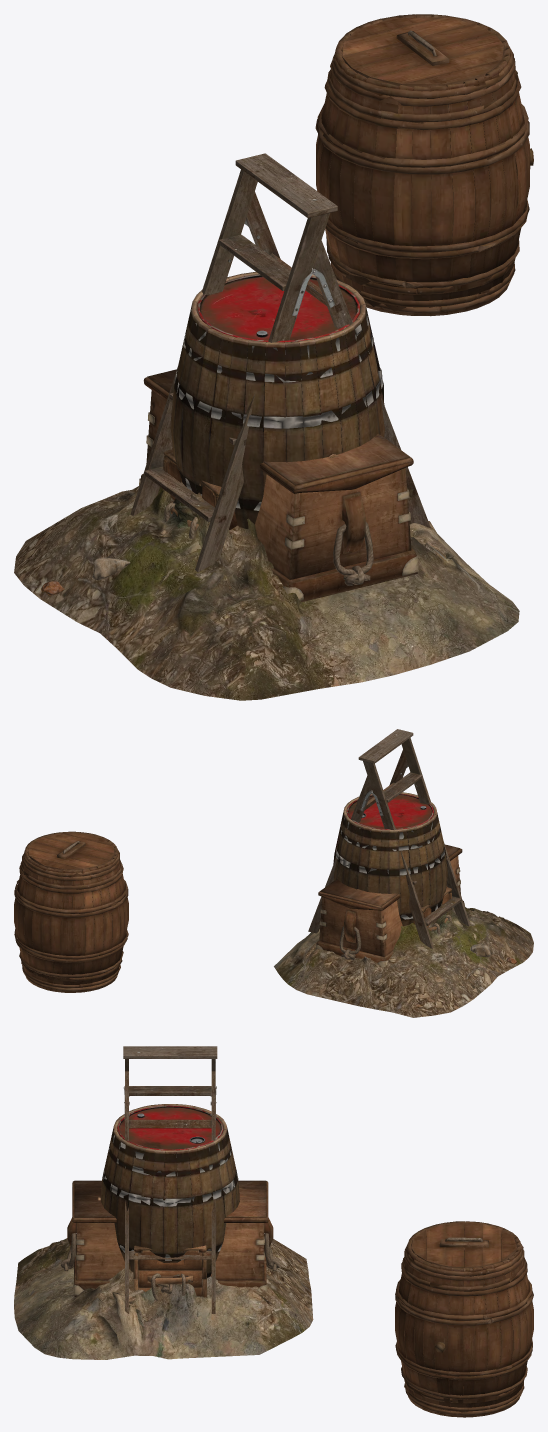
The model's file is village-props-v4.glb.
3 renders of one model, top to bottom at view 1: azimuth 30°, elevation 25°; view 2: azimuth 150°, elevation 25°; view 3: azimuth 270°, elevation 25°, orthographic. The views are drawn at different scales.
Parts seen in each view (by area): view 1: tree_stump_01, wooden_barrels_01_barrel01, wine_barrel_01, wooden_crate_02_crate, wooden_ladder_steps, Barrel_01, wooden_crate_02_lid, wooden_ladder_supports, wooden_crate_01; view 2: wooden_barrels_01_barrel01, tree_stump_01, wine_barrel_01, wooden_ladder_steps, wooden_crate_02_crate, Barrel_01, wooden_crate_02_lid, wooden_ladder_supports; view 3: wooden_barrels_01_barrel01, tree_stump_01, wine_barrel_01, wooden_crate_02_crate, Barrel_01, wooden_ladder_supports, wooden_crate_02_lid, wooden_crate_01, wooden_ladder_steps.
Boxes of the visible parts, x1,y1,x2,y2 form: tree_stump_01: (14,486,519,700); wooden_barrels_01_barrel01: (315,14,533,316); wine_barrel_01: (170,271,384,528); wooden_crate_02_crate: (139,390,418,602); wooden_ladder_steps: (130,153,337,572); Barrel_01: (197,274,359,342); wooden_crate_02_lid: (143,369,413,493); wooden_ladder_supports: (244,191,430,528); wooden_crate_01: (163,459,237,539); wooden_barrels_01_barrel01: (14,831,128,992); tree_stump_01: (274,903,533,1017); wine_barrel_01: (333,792,447,926); wooden_ladder_steps: (358,729,470,948); wooden_crate_02_crate: (315,855,464,967); Barrel_01: (346,793,433,830); wooden_crate_02_lid: (318,844,462,910); wooden_ladder_supports: (308,749,408,933); wooden_barrels_01_barrel01: (395,1221,533,1417); tree_stump_01: (14,1238,313,1359); wine_barrel_01: (100,1104,239,1277); wooden_crate_02_crate: (60,1217,279,1296); Barrel_01: (117,1105,223,1150); wooden_ladder_supports: (123,1071,216,1313); wooden_crate_02_lid: (72,1180,268,1222); wooden_crate_01: (133,1250,206,1300); wooden_ladder_steps: (123,1046,217,1105).
Bounding box in the file's own units: 2.79 × 1.55 × 2.76.
Materials: 13 (13 with a texture image).
